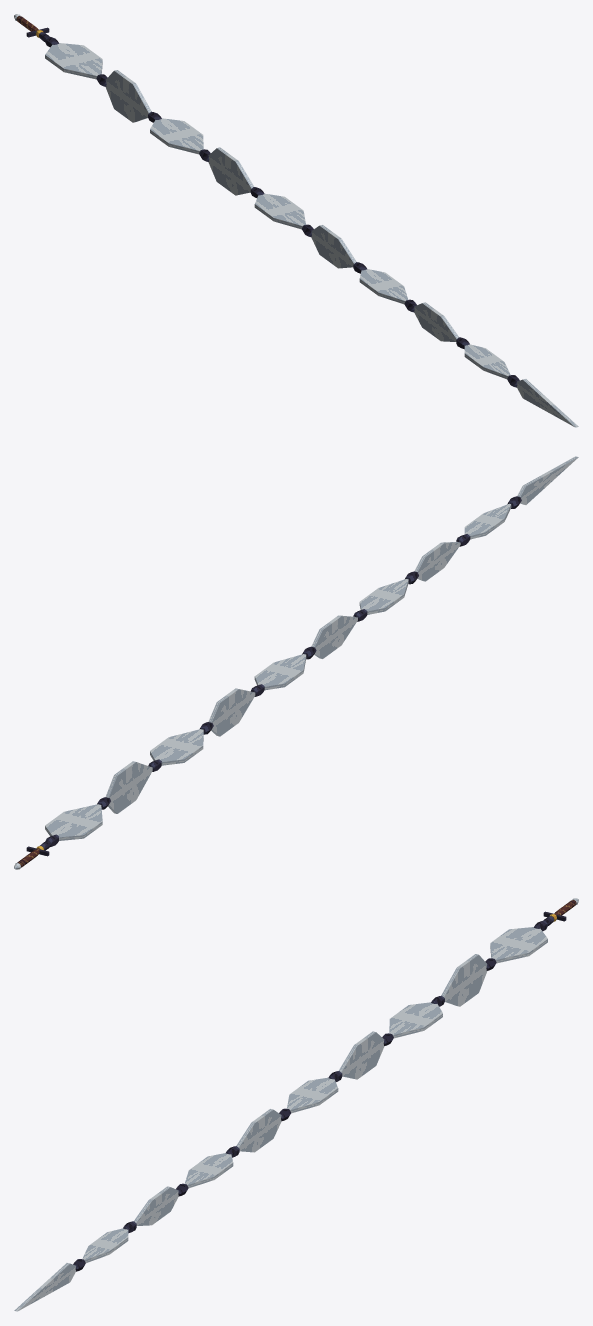
Rendered from peitsche-c-klingen-schlag.glb.
The picture shows the model from 3 angles, top to bottom: view 1: azimuth 30°, elevation 25°; view 2: azimuth 150°, elevation 25°; view 3: azimuth 330°, elevation 25°; orthographic projection.
Visible parts, largest first — view 1: seg01, seg02, seg03, seg04, seg05, seg06, seg07, seg08, seg09, seg10; view 2: seg02, seg01, seg03, seg04, seg05, seg06, seg07, seg08, seg09, seg10; view 3: seg01, seg02, seg03, seg04, seg05, seg06, seg07, seg08, seg09, seg10.
Boxes of the visible parts, <box> form: seg01: <box>45,36,102,79</box>; seg02: <box>96,70,151,122</box>; seg03: <box>148,111,203,154</box>; seg04: <box>199,147,254,195</box>; seg05: <box>250,187,305,229</box>; seg06: <box>302,224,356,268</box>; seg07: <box>353,262,408,304</box>; seg08: <box>404,299,458,341</box>; seg09: <box>456,337,510,379</box>; seg10: <box>507,375,578,427</box>; seg02: <box>97,761,152,813</box>; seg01: <box>45,804,102,846</box>; seg03: <box>148,729,203,771</box>; seg04: <box>200,688,255,736</box>; seg05: <box>251,654,306,696</box>; seg06: <box>302,615,357,659</box>; seg07: <box>353,579,408,621</box>; seg08: <box>405,542,460,584</box>; seg09: <box>456,503,511,546</box>; seg10: <box>507,456,578,508</box>; seg01: <box>490,920,547,963</box>; seg02: <box>441,954,496,1006</box>; seg03: <box>389,995,444,1038</box>; seg04: <box>338,1031,393,1079</box>; seg05: <box>287,1071,342,1113</box>; seg06: <box>236,1108,290,1152</box>; seg07: <box>184,1146,239,1188</box>; seg08: <box>134,1183,188,1225</box>; seg09: <box>82,1221,136,1263</box>; seg10: <box>14,1259,85,1311</box>.
Size of the model in its own units: 0.3463 by 0.3266 by 8.68.
1 material, 1 textured.
